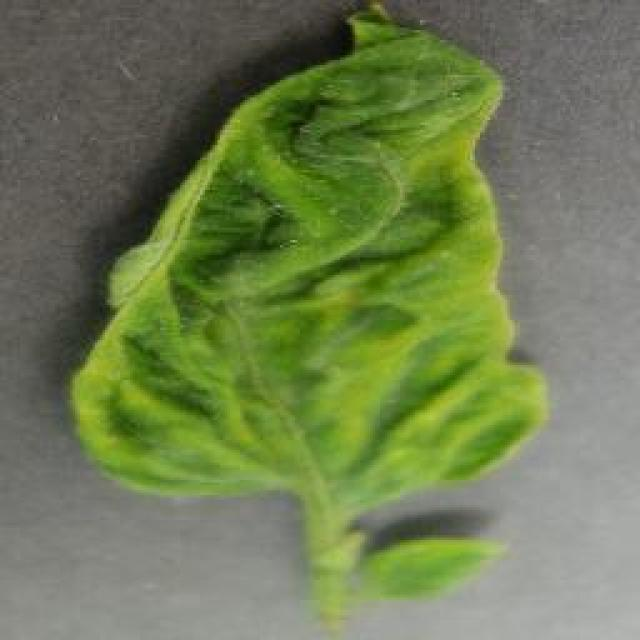Tomato yellow virus leaf: (68, 18, 542, 500), (360, 535, 510, 603)
